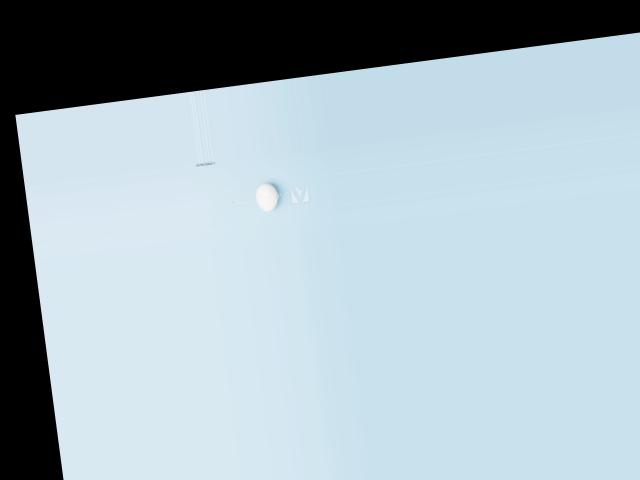egg: (254, 181, 279, 211)
